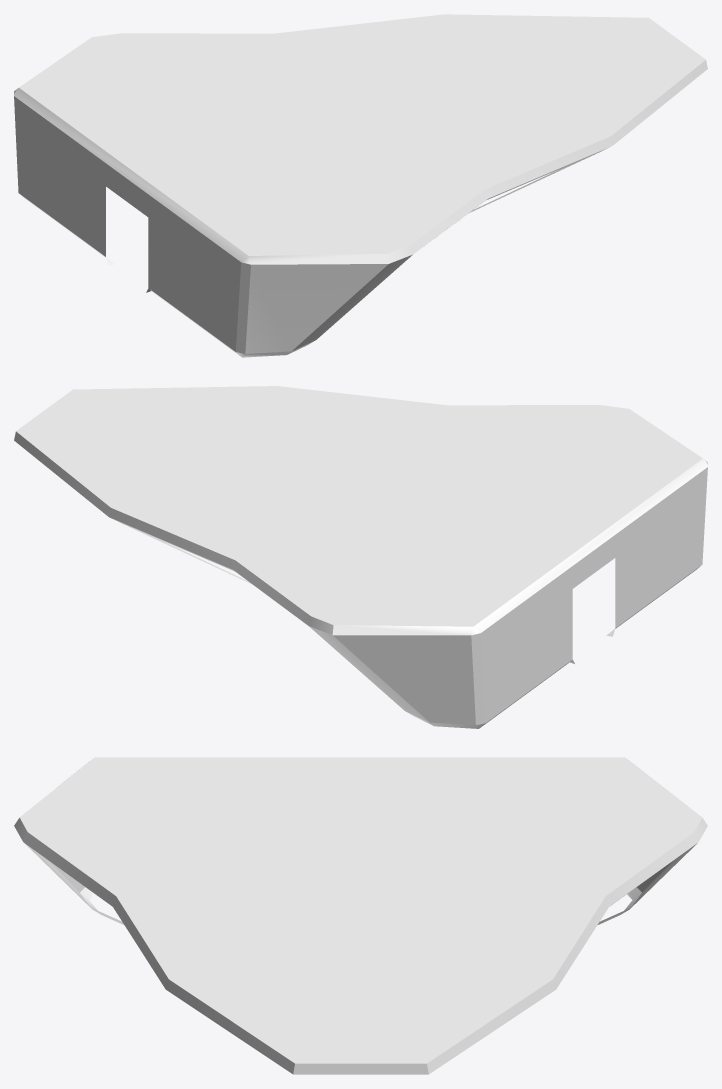
File: CaptainsQuarters_Walls.fbx
3 renders of one model, top to bottom at view 1: azimuth 30°, elevation 25°; view 2: azimuth 150°, elevation 25°; view 3: azimuth 270°, elevation 25°, orthographic. The views are drawn at different scales.
Visible parts, largest first — view 1: CaptainsQuarters_Walls; view 2: CaptainsQuarters_Walls; view 3: CaptainsQuarters_Walls.
Boxes of the visible parts, x1,y1,x2,y2 form: CaptainsQuarters_Walls: [14, 14, 707, 357]; CaptainsQuarters_Walls: [14, 386, 707, 728]; CaptainsQuarters_Walls: [14, 757, 707, 1074].
Size of the model in its own units: 5977 by 1100 by 5649.
